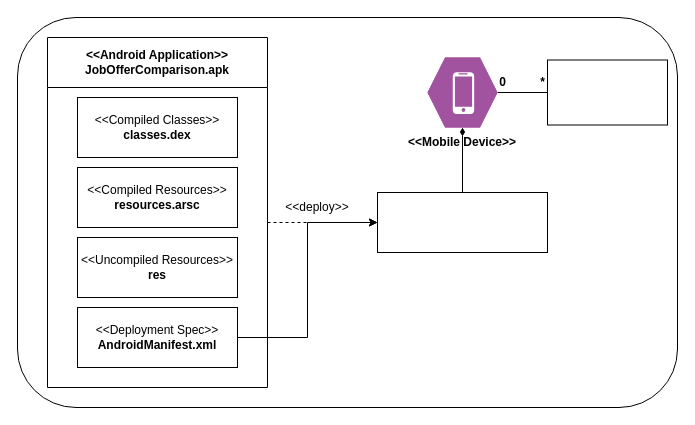
Some shapes in this 695 by 425 pixel diagram are drawn without their labels. Each missing label, with the box of its shape:
<<Execution Environment>> Android: (376, 192, 548, 252)
<<External Storage>>: (546, 59, 668, 125)
